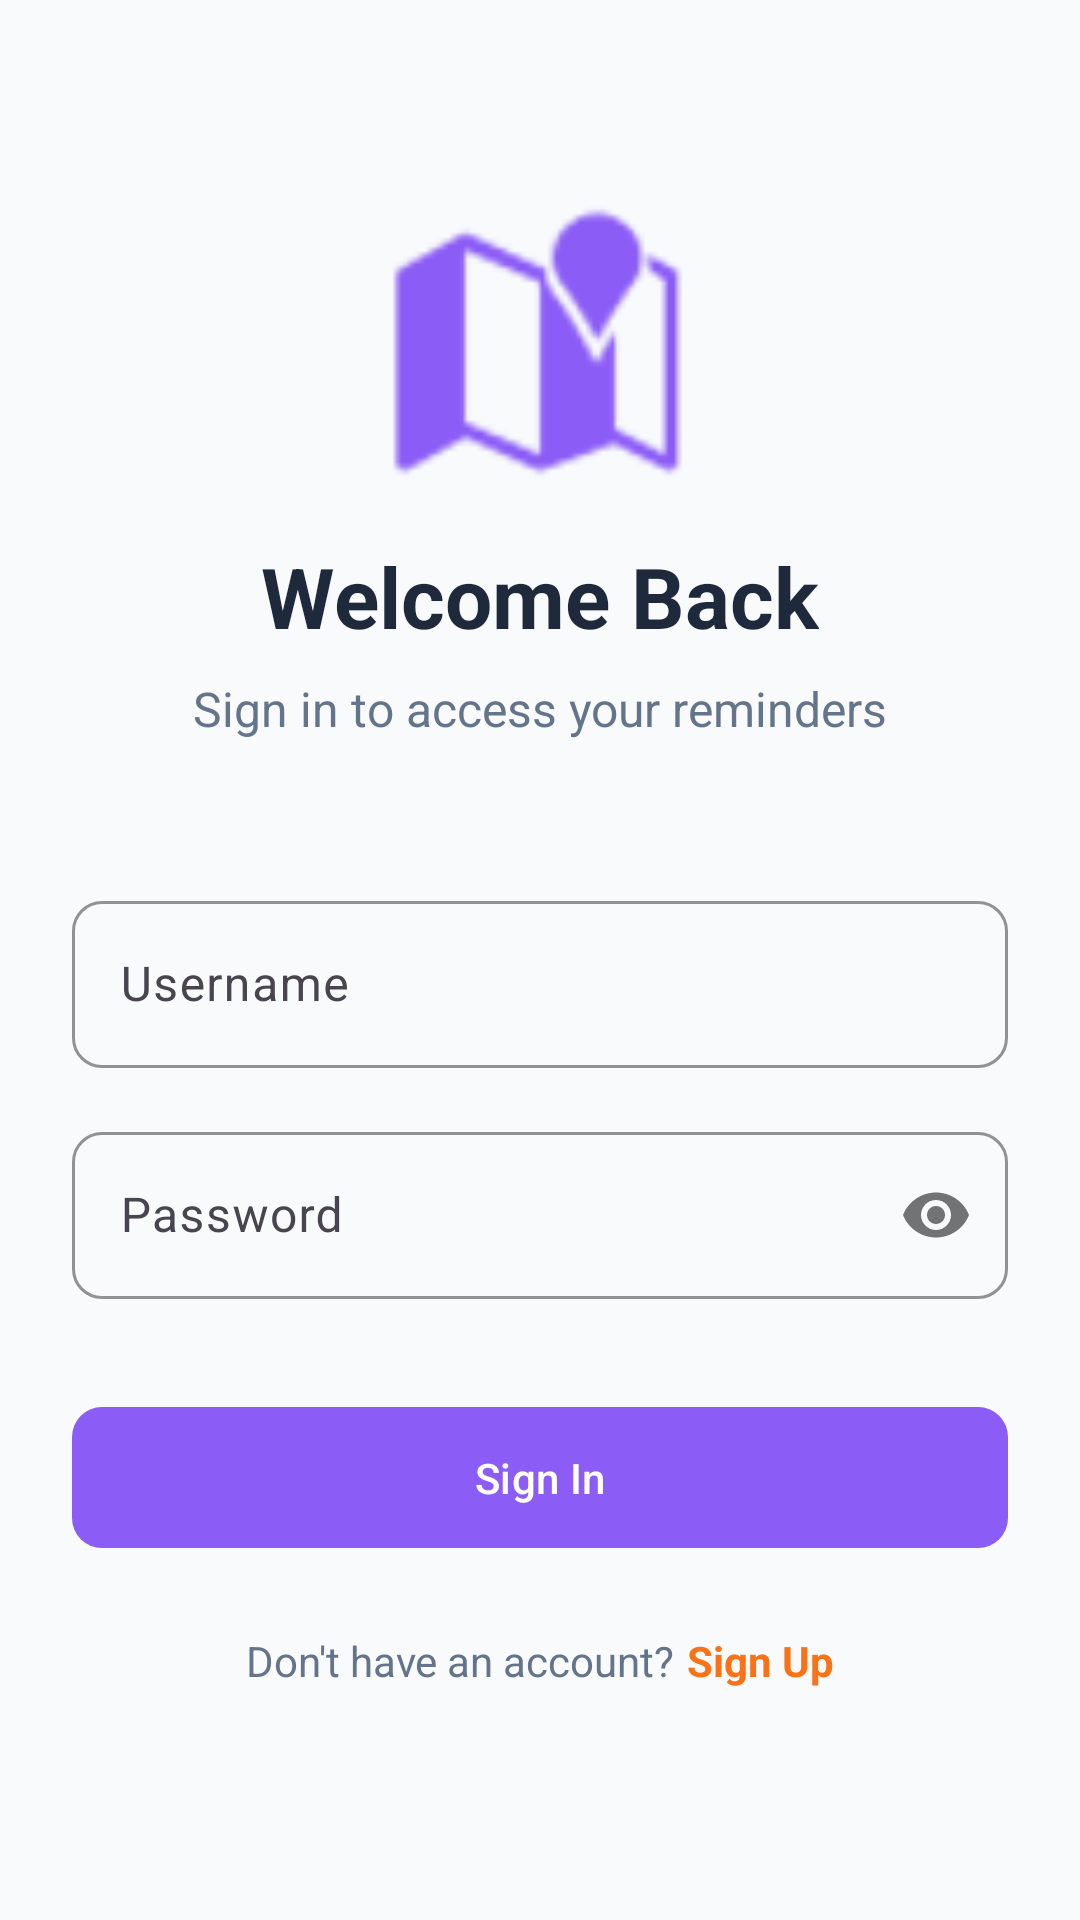

Named icons in this screenshot (1080px×1920px) and their centers, (x,y):
map: (537,342)
